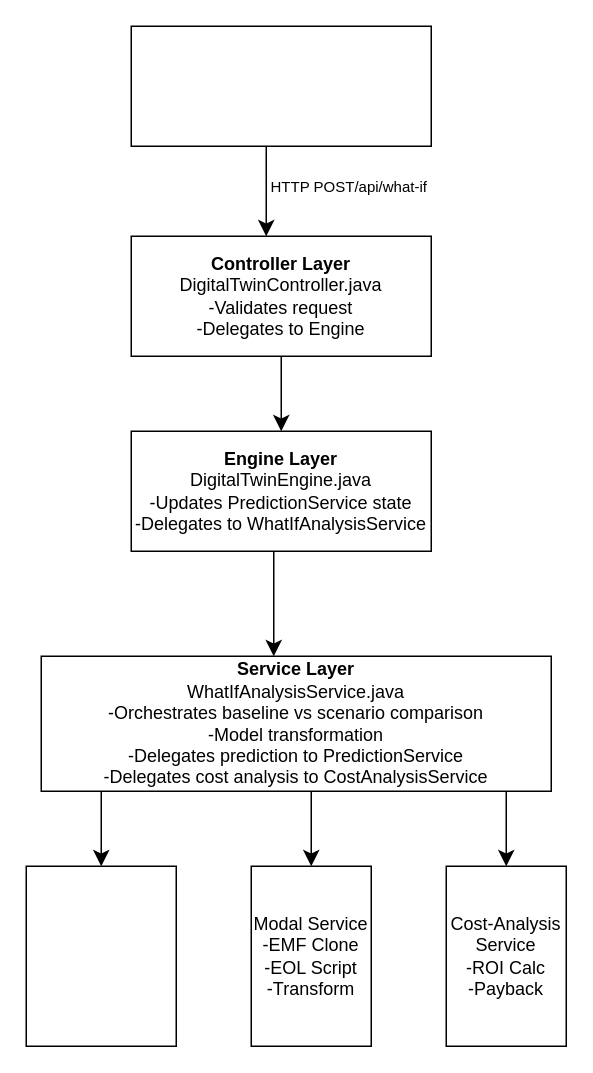
Some shapes in this 593 by 1073 pixel diagram are drawn without their labels. The box of each missing label's shape, as (x1, y1, x2, y2) in pixels:
Frontend (React) WhatIfModal.jsx -> User Input -> API Request: (130, 25, 431, 146)
Prediction Service -ML Model -Energy Prediction: (25, 865, 176, 1046)
